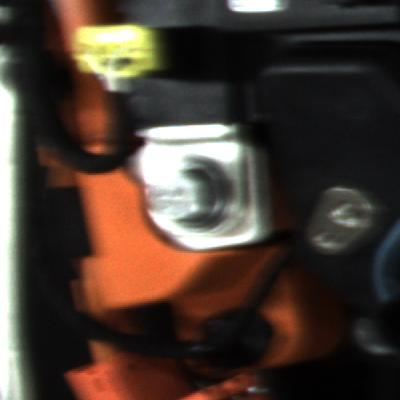nut_b: (134, 152, 232, 242)
